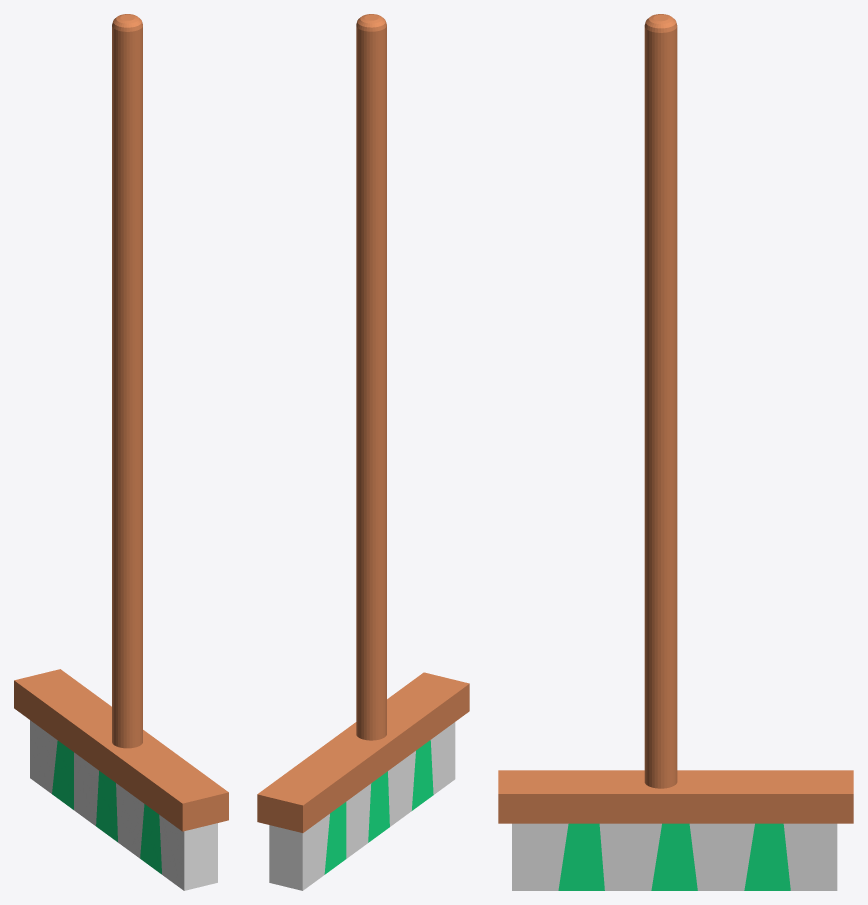
The model's file is Choi.fbx.
3 views of the same model, side by side, from view 1: azimuth 30°, elevation 25°; view 2: azimuth 150°, elevation 25°; view 3: azimuth 270°, elevation 25° (orthographic). The views are drawn at different scales.
Parts seen in each view (by area): view 1: Cylinder, Body; view 2: Cylinder, Body; view 3: Cylinder, Body.
Boxes of the visible parts, x1,y1,x2,y2 form: Cylinder: (14, 14, 228, 831); Body: (30, 720, 217, 890); Cylinder: (257, 14, 469, 832); Body: (269, 722, 455, 890); Cylinder: (498, 14, 853, 823); Body: (512, 823, 837, 890).
Size of the model in its own units: 34.71 by 585 by 218.
